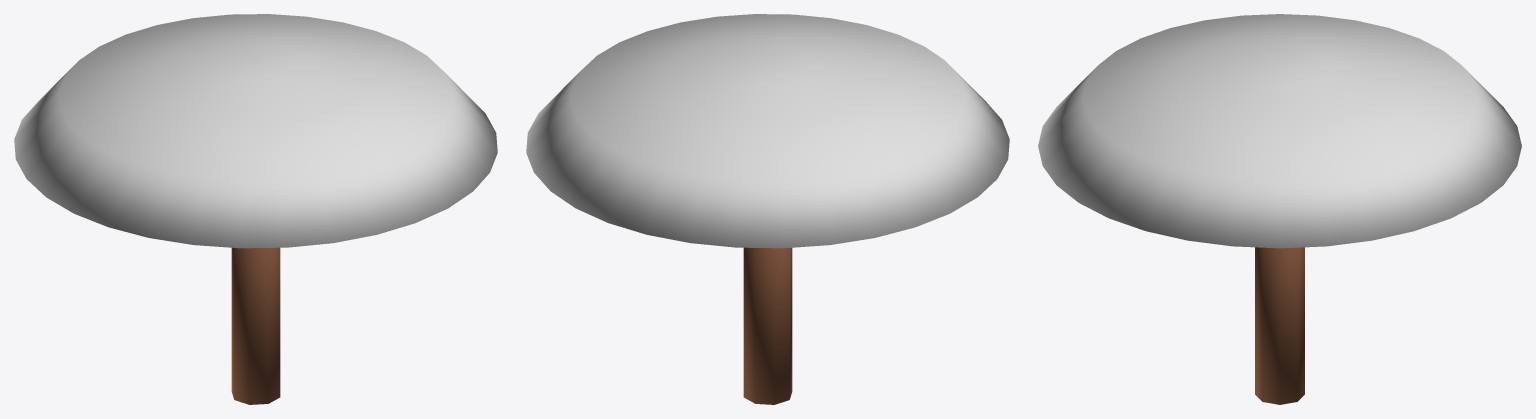
Rendered from mushRoomJumpad3.glb.
The picture shows the model from 3 angles, left to right: view 1: azimuth 30°, elevation 25°; view 2: azimuth 150°, elevation 25°; view 3: azimuth 270°, elevation 25°; orthographic projection.
Parts seen in each view (by area): view 1: Default_Head, Default_Column; view 2: Default_Head, Default_Column; view 3: Default_Head, Default_Column.
Part boxes in pixels (x1=…): Default_Head: x1=14, y1=14, x2=497, y2=248; Default_Column: x1=231, y1=247, x2=280, y2=404; Default_Head: x1=526, y1=14, x2=1009, y2=248; Default_Column: x1=743, y1=247, x2=792, y2=404; Default_Head: x1=1038, y1=14, x2=1521, y2=248; Default_Column: x1=1255, y1=247, x2=1304, y2=404.
Size of the model in its own units: 3.76 by 2.84 by 3.76.
